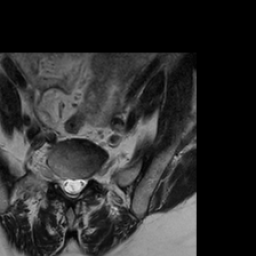CCS_normal: (68, 170, 76, 203)
LFS_severe_stenosis: (85, 167, 93, 189)
LLS_normal: (76, 171, 85, 196)
RFS_normal: (52, 165, 60, 189)
RLS_normal: (60, 170, 68, 197)
